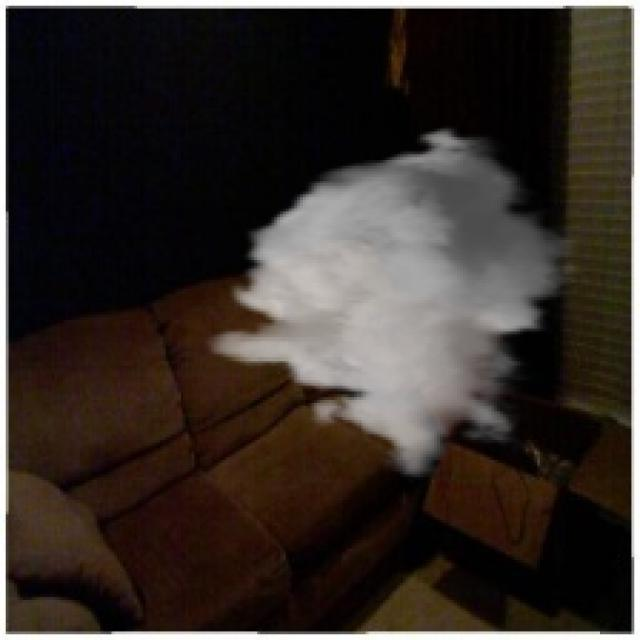Smoke: (203, 126, 586, 480)
